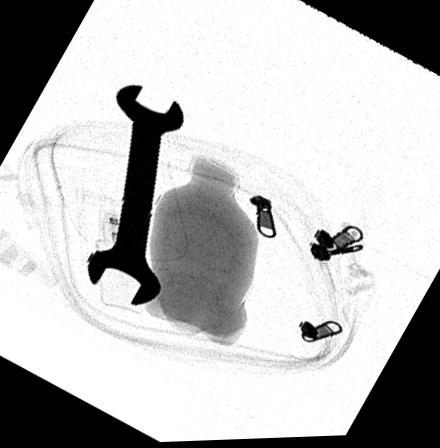Wrench: (83, 83, 183, 308)
